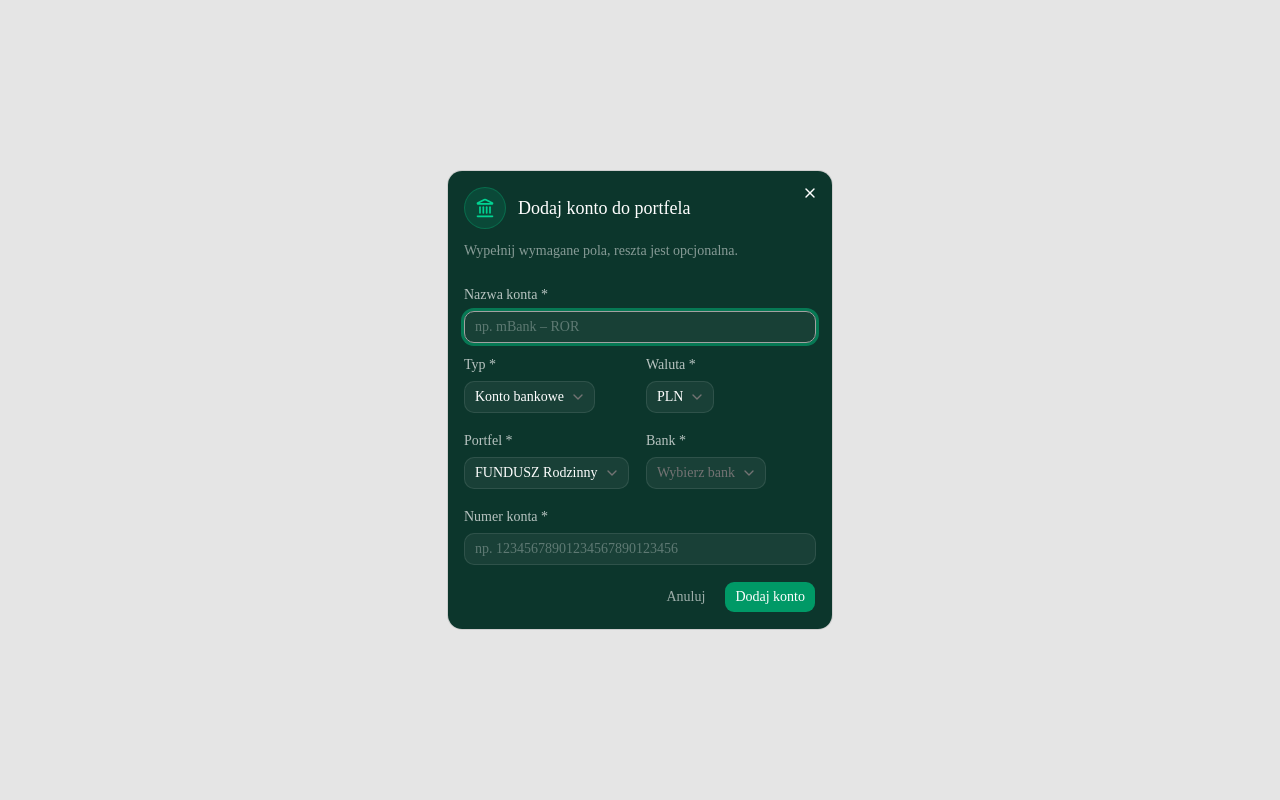
Test: CreateAccountDialog › keeps the dialog open and displays backend validation errors
Step 1. Type "Subkonto USD" into the field labelled "Nazwa konta *" → (640, 327), box [464, 311, 816, 343]
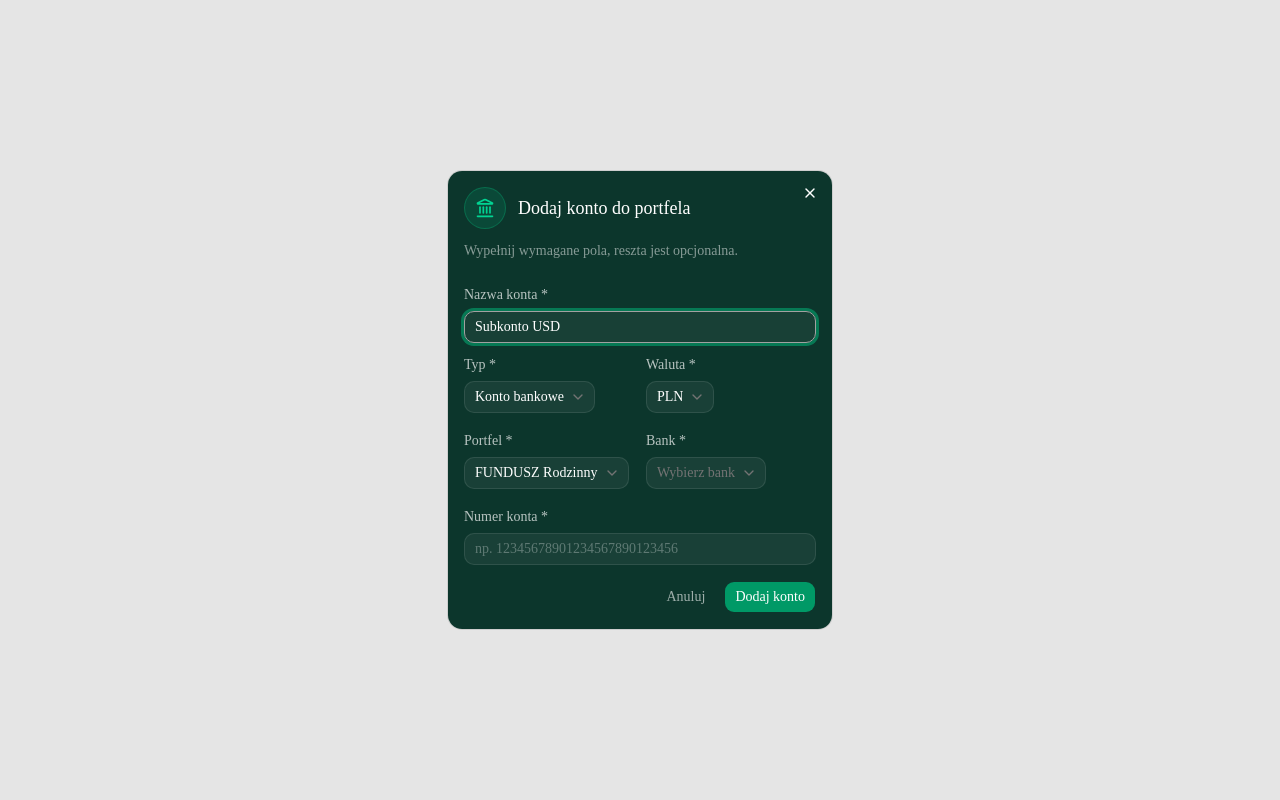
Step 2. Type "BOSSA-IKE-USD-ARTUR" into the field labelled "Numer konta *" → (640, 549), box [464, 533, 816, 565]
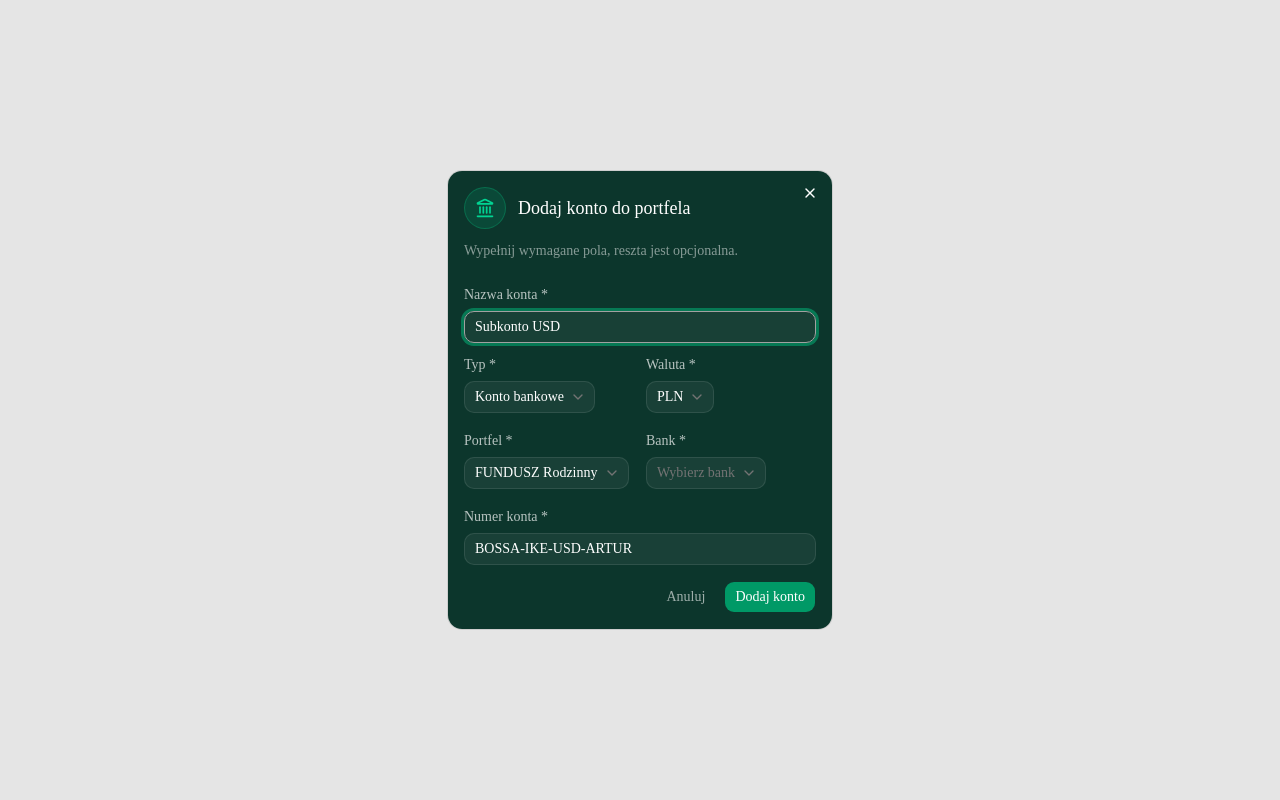
Step 3. Click the dropdown labelled "Wybierz bank" → (706, 473), box [646, 457, 766, 489]
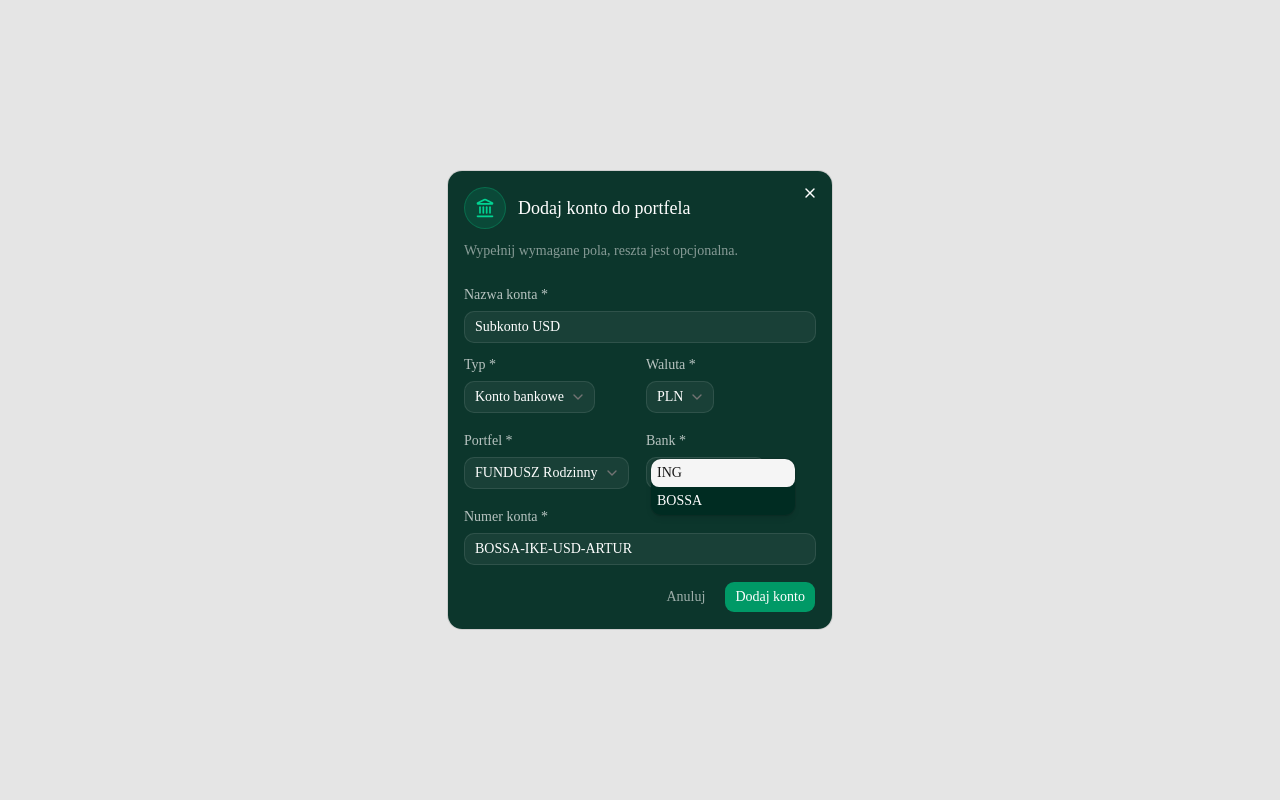
Step 4. Click the option "BOSSA" → (680, 500), box [657, 493, 702, 508]
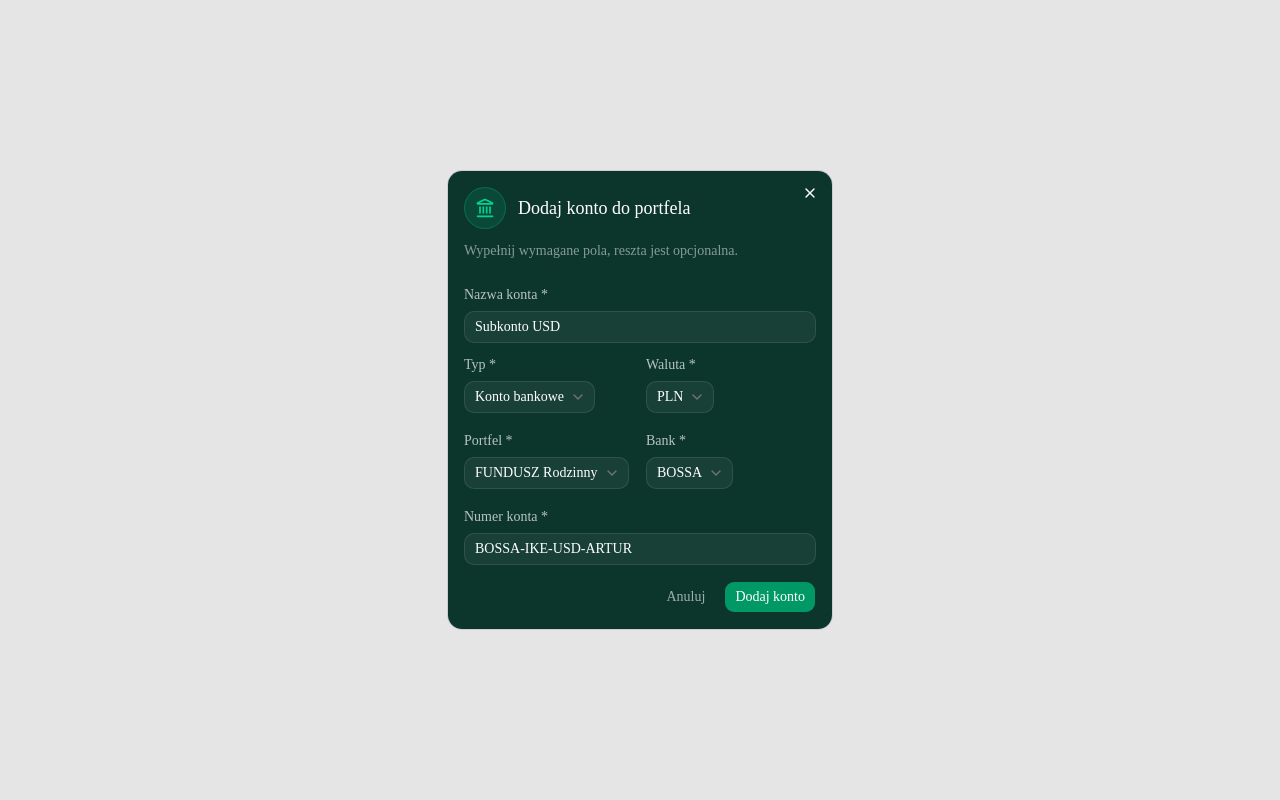
Step 5. Click the button "Dodaj konto" → (770, 597), box [724, 581, 816, 613]
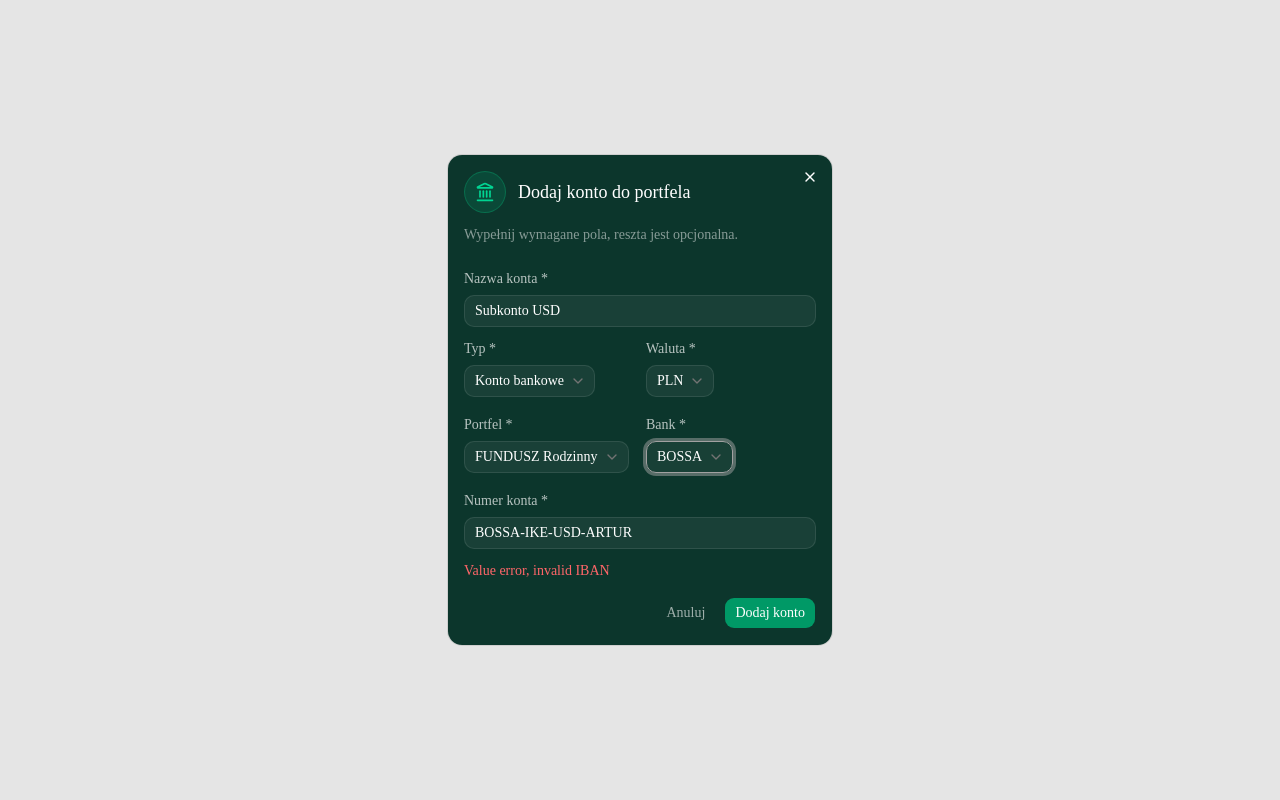
Expected: the text "Value error, invalid IBAN" is shown, [464, 563, 610, 578]
